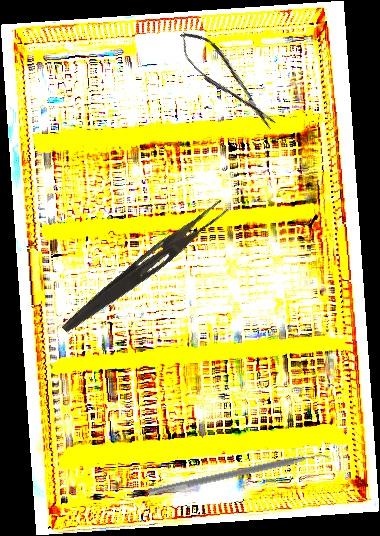Dressing Forceps: (59, 193, 230, 342)
Micro Scissor: (171, 21, 283, 140)
Spatula Surgical: (147, 447, 332, 504)
